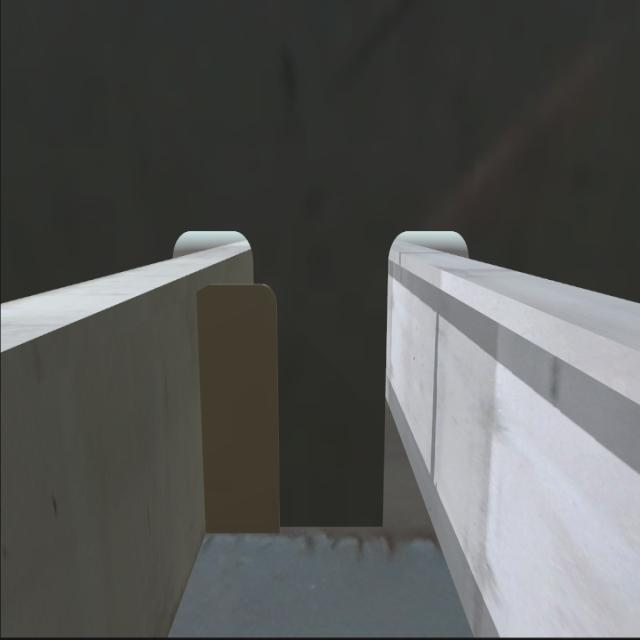fillet_yong_jeop_jang: (203, 513, 389, 545)
longi_yong_jeop_jang: (192, 284, 218, 540)
plate_CP05: (199, 286, 283, 538)
